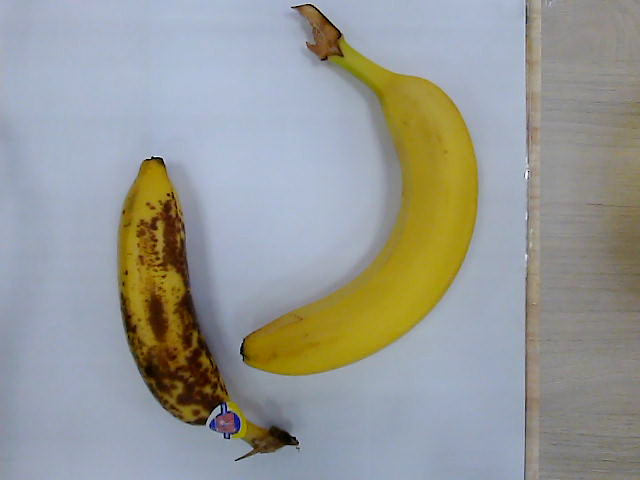fresh_banana: (238, 4, 478, 374)
rotten_banana: (117, 157, 297, 458)
